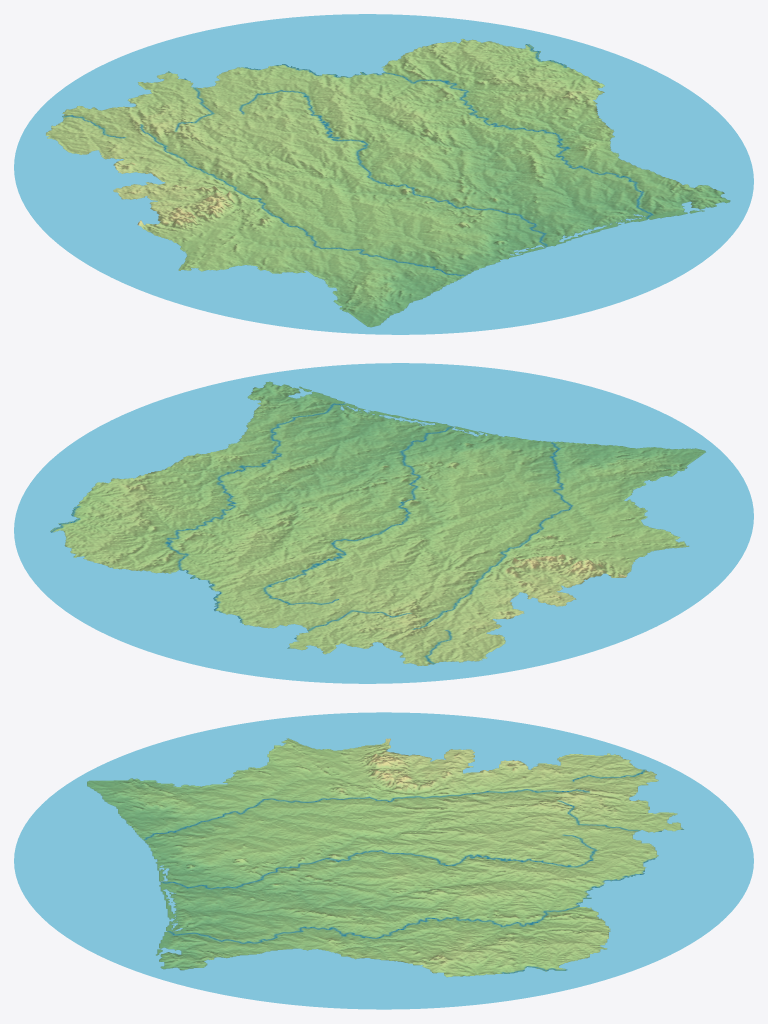
File: CIV-terrain.glb
The picture shows the model from 3 angles, top to bottom: view 1: azimuth 30°, elevation 25°; view 2: azimuth 150°, elevation 25°; view 3: azimuth 270°, elevation 25°; orthographic projection. The views are drawn at different scales.
Visible parts, largest first — view 1: Relevo com hidrografia; view 2: Relevo com hidrografia; view 3: Relevo com hidrografia.
Boxes of the visible parts, x1,y1,x2,y2 form: Relevo com hidrografia: [14, 14, 753, 334]; Relevo com hidrografia: [14, 363, 753, 683]; Relevo com hidrografia: [14, 712, 753, 1009].
Size of the model in its own units: 1.89 by 0.03 by 1.99.
Materials: 2 (1 with a texture image).
